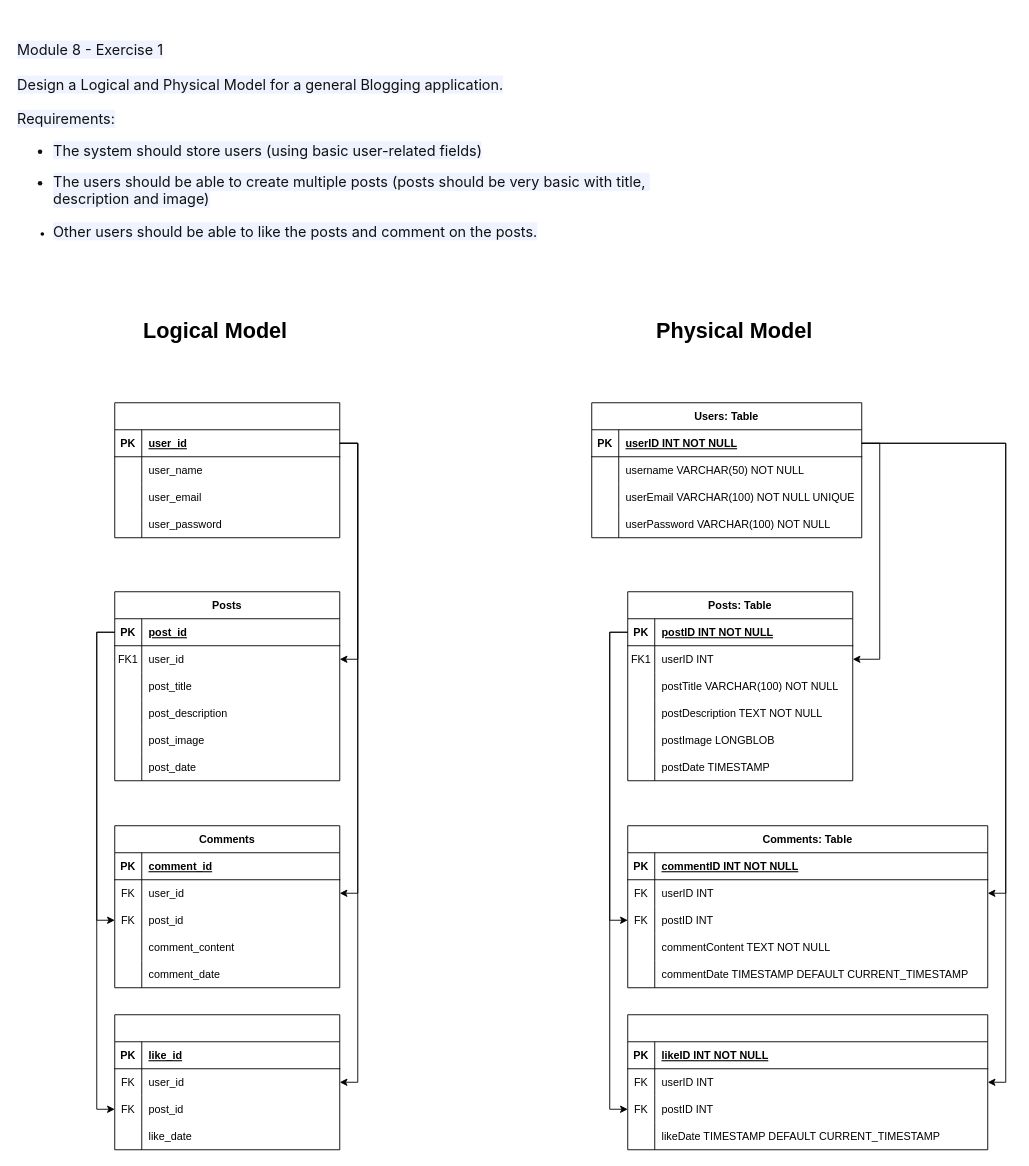
Image size: 1029x1166. Some labels were removed from this diagram. The shapes that lost their labels are listed below. From the top down, each one's box as (x1, y1, x2, y2) in pixels, then its label:
(114, 402, 340, 538): Users
(114, 1014, 340, 1150): Likes
(627, 1014, 988, 1150): Likes: Table
